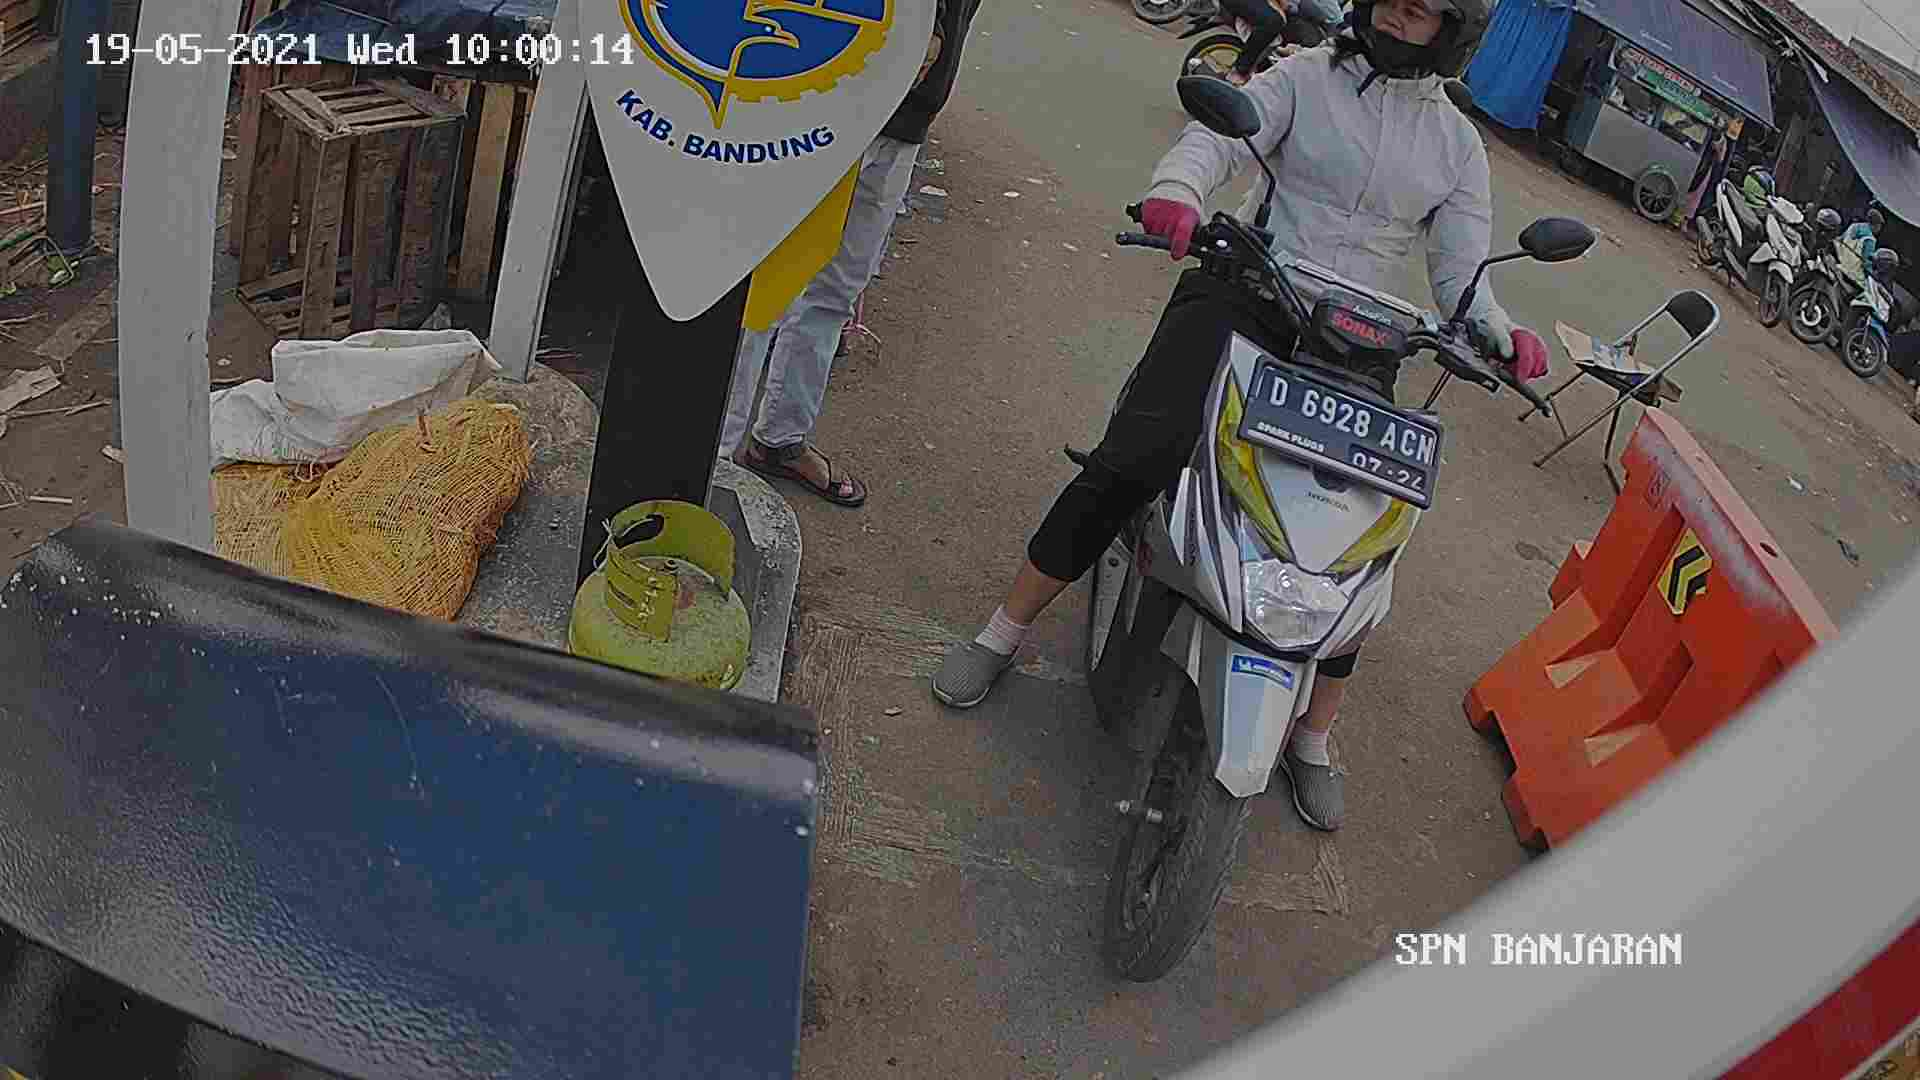motor: (1098, 278, 1447, 997)
